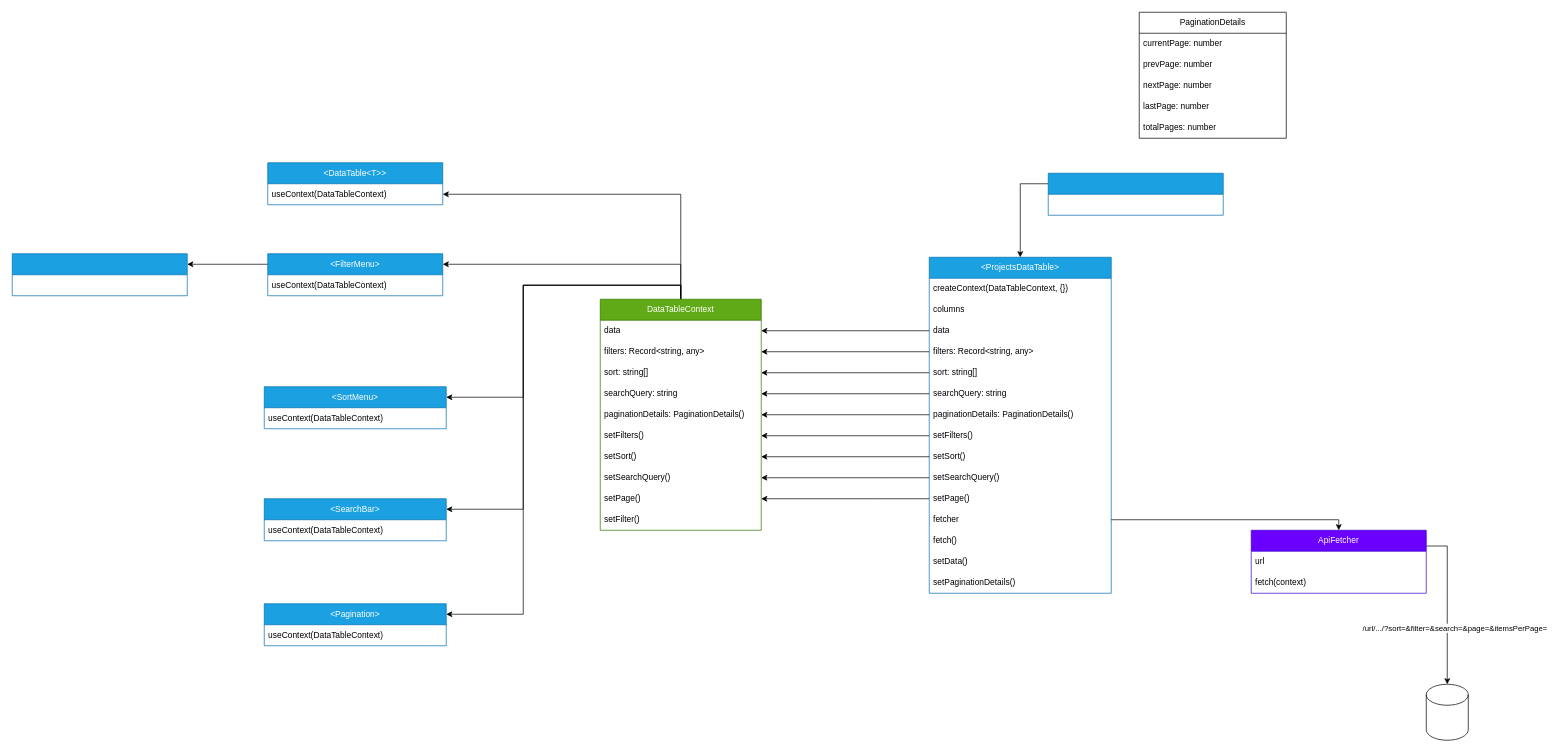
Some shapes in this 1559 by 753 pixel diagram are drawn without their labels. The shapes that lost their labels are listed below. From the top down, each one's centre as x and y in pixels, then its label:
point 1135,194: <ProjectsPage>
point 99,274: <Filter>
